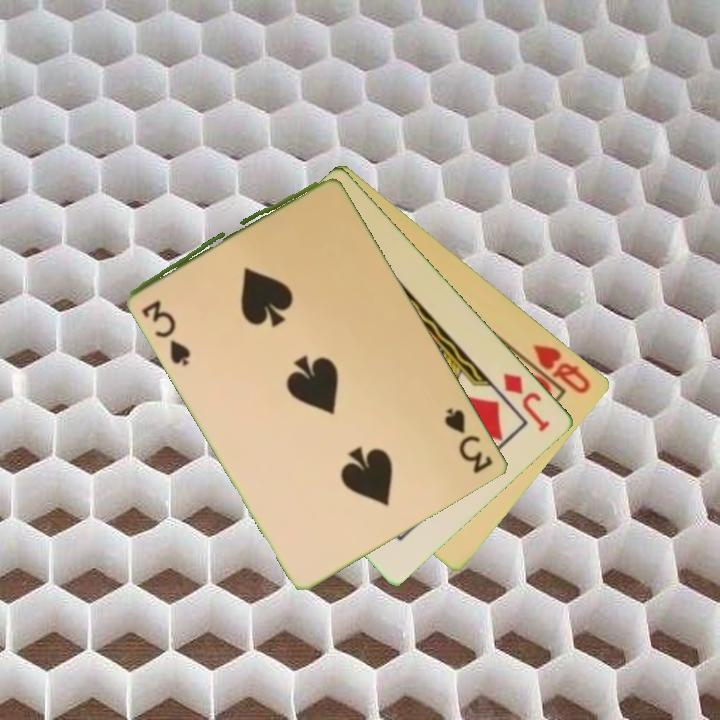3s: (138, 296, 194, 368), (441, 404, 496, 477)
Jd: (500, 369, 554, 436)
Qh: (529, 340, 594, 397)
